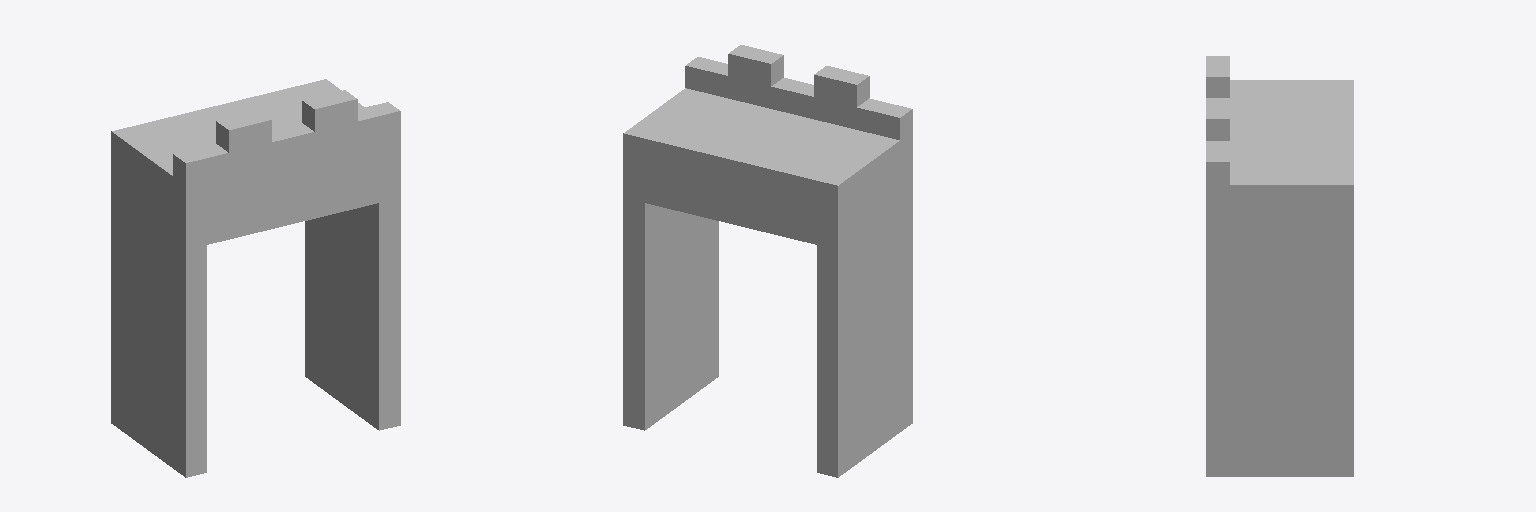
File: CityWallArchwayFar.obj
The picture shows the model from 3 angles: view 1: azimuth 30°, elevation 25°; view 2: azimuth 150°, elevation 25°; view 3: azimuth 270°, elevation 25°; orthographic projection.
Parts seen in each view (by area): view 1: Cube; view 2: Cube; view 3: Cube.
Boxes of the visible parts, x1=… form: Cube: x1=111, y1=79, x2=400, y2=477; Cube: x1=623, y1=45, x2=912, y2=477; Cube: x1=1206, y1=56, x2=1353, y2=476.
Size of the model in its own units: 10 by 15 by 6.